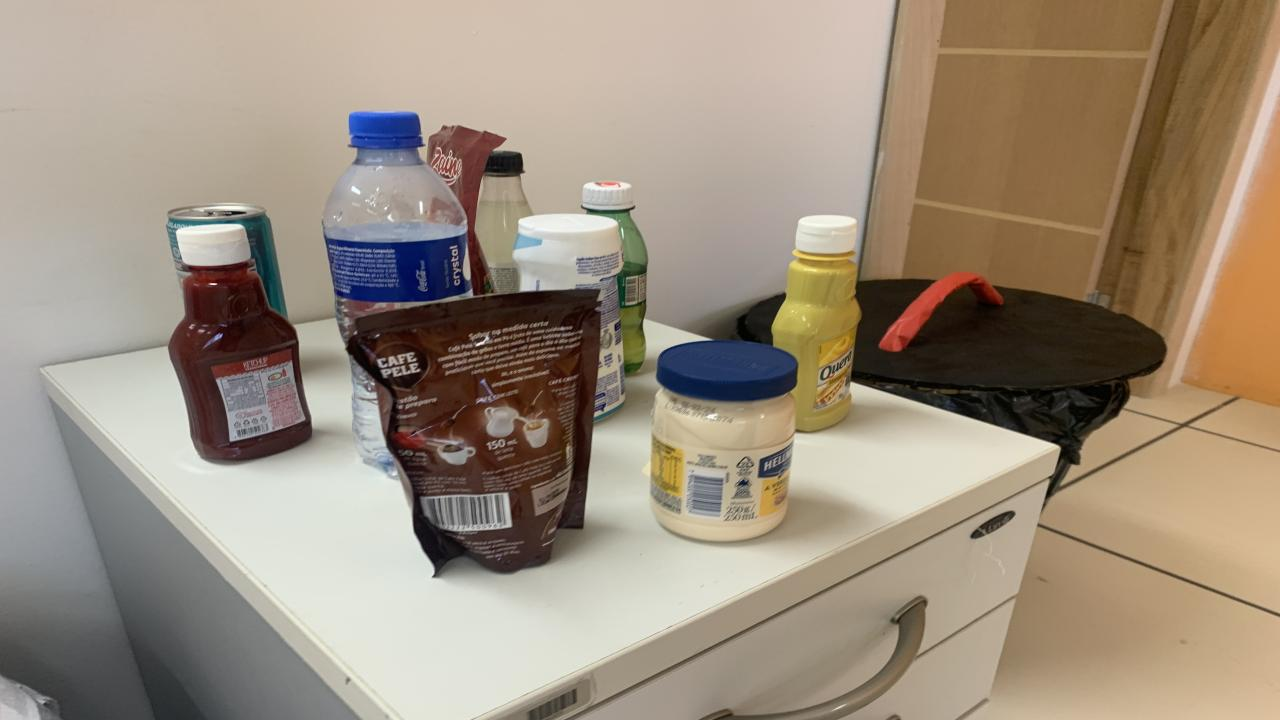Cleaner-Cleanup_Items: (512, 214, 625, 418)
Coffee-Pantry_Items: (348, 289, 600, 572)
Guarana-Drinks: (582, 182, 648, 373)
Ketchup-Pantry_Items: (168, 225, 312, 461)
Mayonnaise-Pantry_Items: (650, 341, 798, 542)
Mustard-Pantry_Items: (772, 216, 860, 431)
Soda-Drinks: (475, 150, 532, 292)
Tomato_Sauce-Pantry_Items: (428, 126, 505, 294)
Water_Bottle-Drinks: (322, 112, 472, 339), (352, 364, 398, 476)
